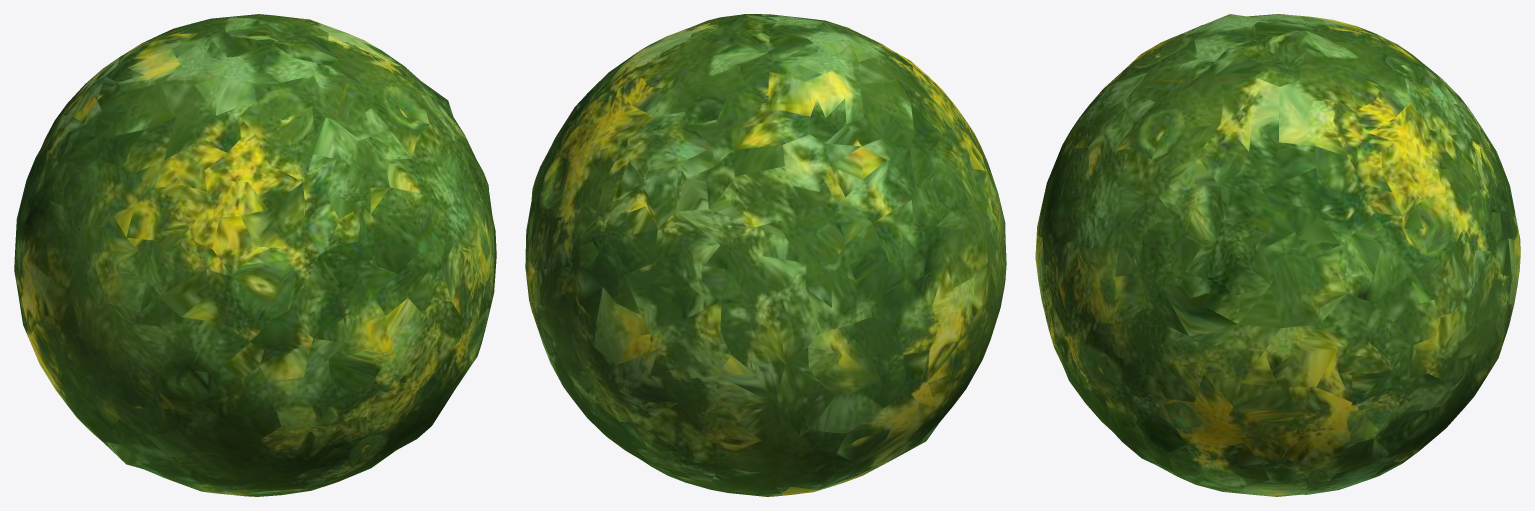
Rendered from moon_05.glb.
3 views of the same model, side by side, from view 1: azimuth 30°, elevation 25°; view 2: azimuth 150°, elevation 25°; view 3: azimuth 270°, elevation 25° (orthographic).
Parts seen in each view (by area): view 1: Mesh_0; view 2: Mesh_0; view 3: Mesh_0.
Part boxes in pixels (box(x1,y1,x2,y2)): Mesh_0: box(14, 14, 496, 496); Mesh_0: box(525, 14, 1006, 496); Mesh_0: box(1035, 14, 1520, 496).
Size of the model in its own units: 1.9 by 1.89 by 1.9.
1 material, 1 textured.
